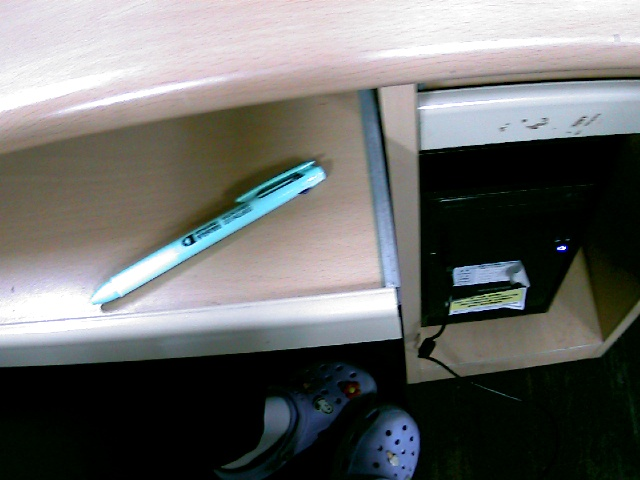pen: (88, 149, 344, 321)
